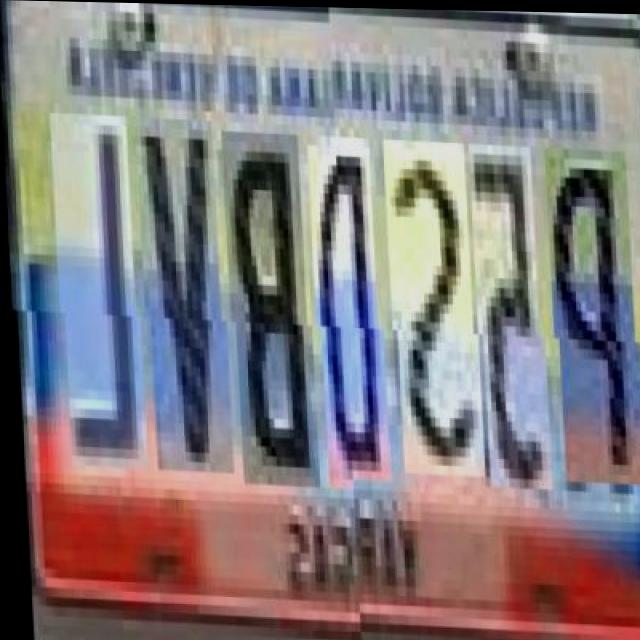5: (466, 152, 544, 497)
b: (220, 134, 310, 489)
d: (306, 146, 382, 492)
l: (48, 116, 139, 471)
p: (543, 155, 638, 493)
s: (382, 148, 476, 486)
v: (133, 120, 224, 475)
